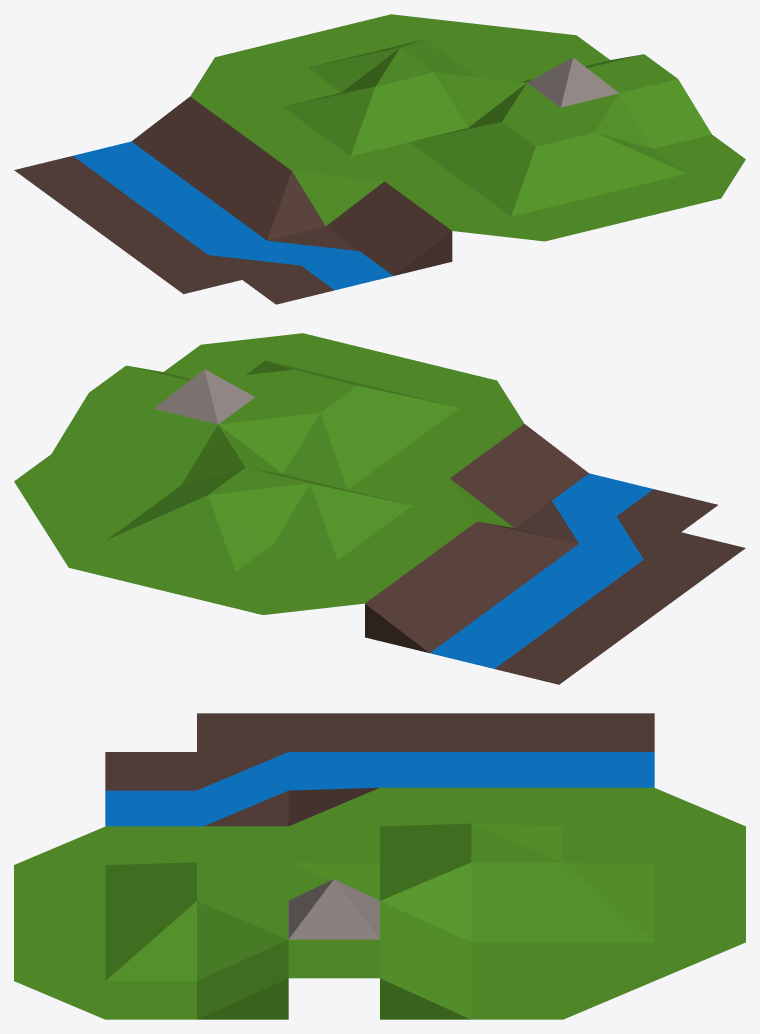
Rendered from world_slopes.glb.
3 renders of one model, top to bottom at view 1: azimuth 30°, elevation 25°; view 2: azimuth 150°, elevation 25°; view 3: azimuth 270°, elevation 25°, orthographic. The views are drawn at different scales.
Visible parts, largest first — view 1: Cube.028, Cube.003, Cube.016, Cube.012, Cube.025, Cube.027, Cube.002, Cube.018, Cube.023, Cube, Cube.022, Cube.024 (+51 smaller); view 2: Cube.022, Cube.011, Cube.008, Cube.019, Cube.009, Cube.017, Cube.013, Cube.020, Cube, Cube.023, Cube.028, Cube.024 (+49 smaller); view 3: Cube.015, Cube.021, Cube.012, Cube.011, Cube.005, Cube.006, Cube.004, Cube.007, Plane.001, Plane.022, Plane.010, Plane.014 (+47 smaller).
Part boxes in pixels (x1,y1,x2,y2): Cube.028: [360, 206, 452, 275]; Cube.003: [536, 132, 628, 202]; Cube.016: [376, 72, 467, 141]; Cube.012: [619, 79, 711, 148]; Cube.025: [233, 171, 325, 240]; Cube.027: [292, 156, 384, 225]; Cube.002: [477, 147, 569, 216]; Cube.018: [317, 87, 408, 156]; Cube.023: [165, 121, 257, 190]; Cube: [443, 122, 535, 191]; Cube.022: [131, 96, 223, 165]; Cube.024: [199, 146, 291, 215]; Cube.022: [365, 576, 466, 652]; Cube.011: [51, 393, 152, 469]; Cube.008: [116, 408, 217, 485]; Cube.019: [273, 483, 374, 560]; Cube.009: [218, 397, 319, 473]; Cube.017: [208, 467, 309, 544]; Cube.013: [283, 413, 384, 489]; Cube.020: [171, 495, 272, 571]; Cube: [320, 385, 421, 462]; Cube.023: [402, 549, 503, 625]; Cube.028: [487, 424, 588, 500]; Cube.024: [440, 522, 541, 598]; Cube.015: [471, 862, 562, 942]; Cube.021: [563, 862, 654, 942]; Cube.012: [197, 939, 288, 1019]; Cube.011: [380, 940, 471, 1019]; Cube.005: [197, 901, 288, 980]; Cube.006: [105, 901, 196, 980]; Cube.004: [288, 879, 379, 939]; Cube.007: [380, 862, 471, 942]; Plane.001: [563, 787, 654, 826]; Plane.022: [654, 903, 745, 942]; Plane.010: [14, 903, 105, 942]; Plane.014: [288, 939, 379, 978].
Bounding box in the file's own units: 36 × 6 × 32.
